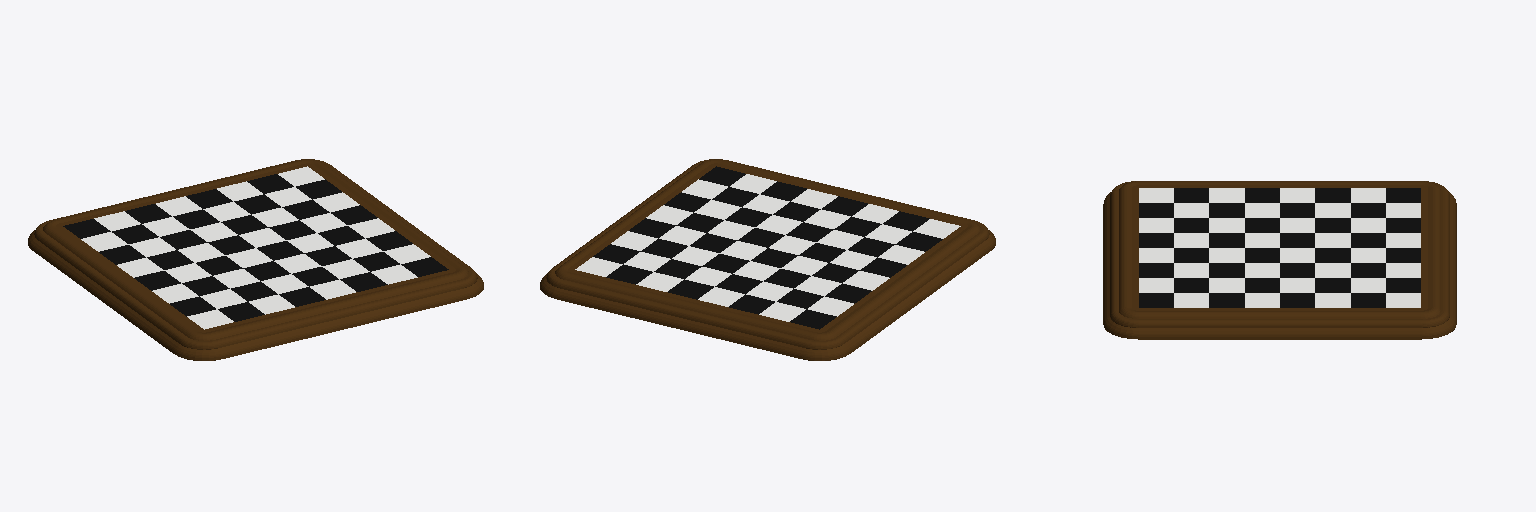
The model's file is chess_board_blackwhitewood.obj.
3 renders of one model, left to right at view 1: azimuth 30°, elevation 25°; view 2: azimuth 150°, elevation 25°; view 3: azimuth 270°, elevation 25°, orthographic.
Parts seen in each view (by area): view 1: Body11, Body13, Body12; view 2: Body11, Body12, Body13; view 3: Body11, Body12, Body13.
Part boxes in pixels (x1,y1,x2,y2): Body11: (28,159,483,360); Body13: (81,166,430,329); Body12: (63,174,448,321); Body11: (540,159,995,360); Body12: (593,166,942,329); Body13: (575,174,960,321); Body11: (1103,181,1456,339); Body12: (1139,188,1420,307); Body13: (1139,188,1420,307).
Size of the model in its own units: 48 by 2.64 by 48.